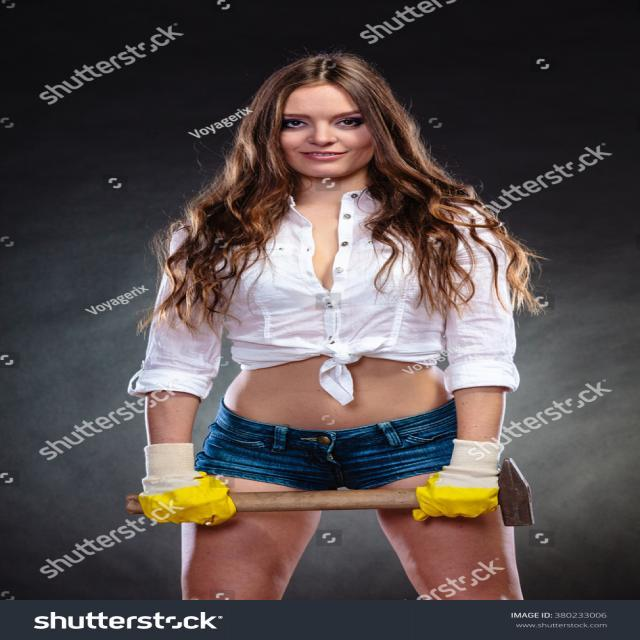hammer: (104, 453, 544, 535)
